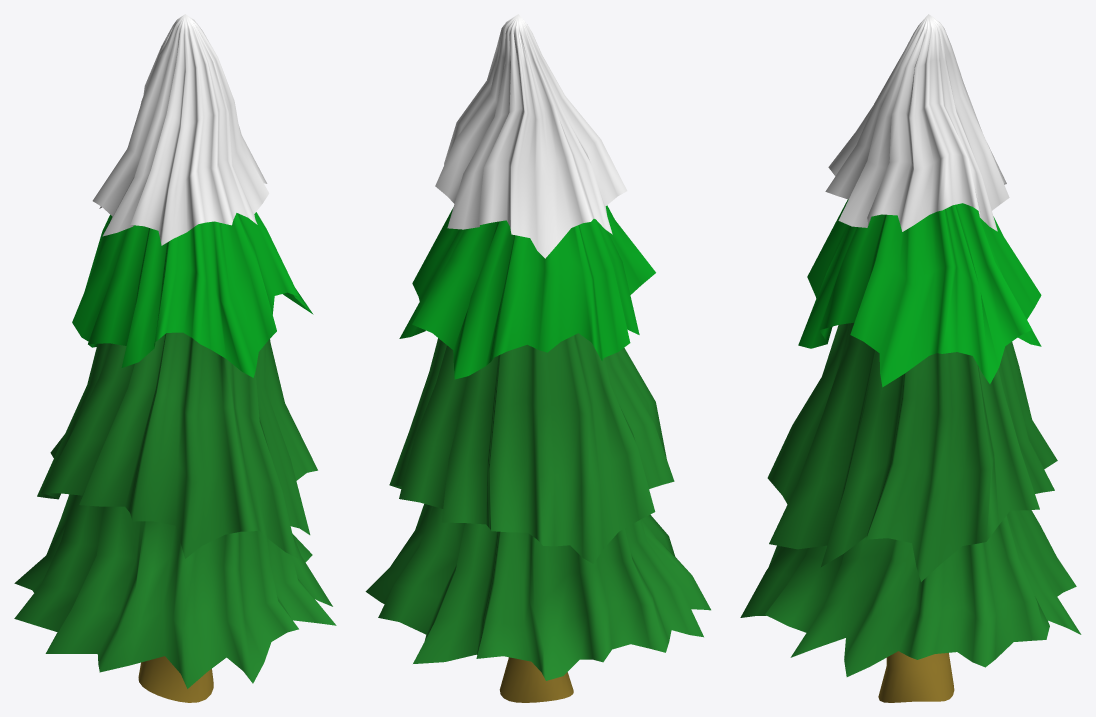
File: TREE-PINE-STRAIGHT.glb
The picture shows the model from 3 angles, left to right: view 1: azimuth 30°, elevation 25°; view 2: azimuth 150°, elevation 25°; view 3: azimuth 270°, elevation 25°; orthographic projection. The views are drawn at different scales.
Visible parts, largest first — view 1: TREE - PINE - STRAIGHT; view 2: TREE - PINE - STRAIGHT; view 3: TREE - PINE - STRAIGHT.
Part boxes in pixels (x1=…): TREE - PINE - STRAIGHT: x1=14, y1=14, x2=336, y2=702; TREE - PINE - STRAIGHT: x1=365, y1=14, x2=710, y2=702; TREE - PINE - STRAIGHT: x1=740, y1=14, x2=1081, y2=702.
Size of the model in its own units: 2.85 by 6.44 by 2.89.
